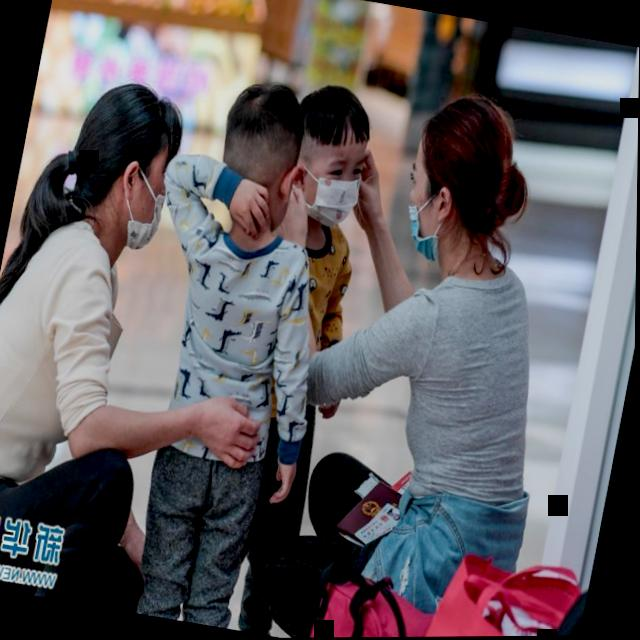Mask: (54, 60, 204, 270), (390, 84, 542, 283), (278, 74, 392, 240)
